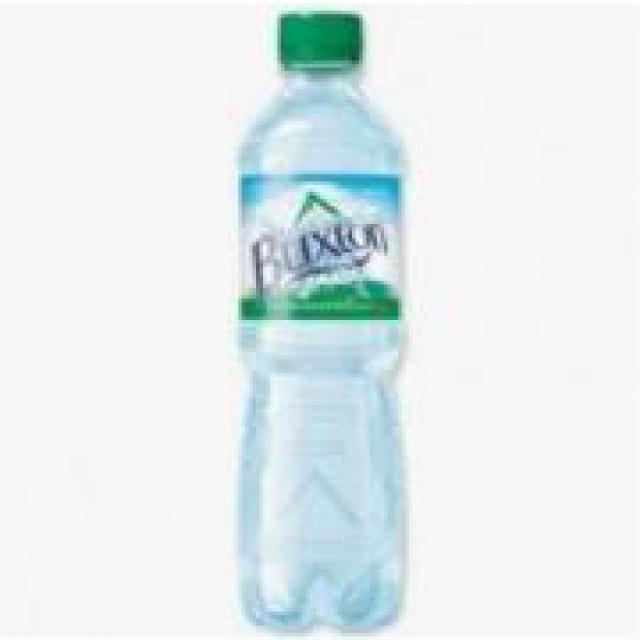bottle: (217, 0, 433, 640)
